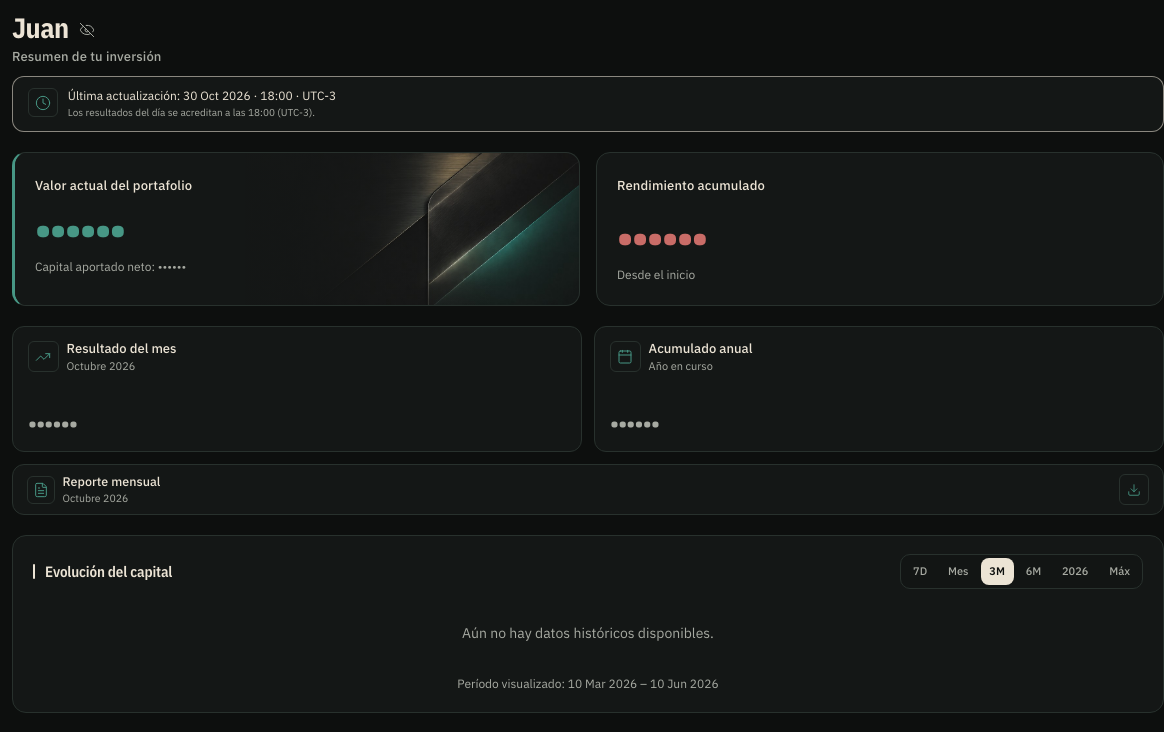
it: DashboardPage › downloads monthly report when download button is clicked
Click the button named "Descargar reporte".
click(1134, 490)  # box [1119, 474, 1149, 505]
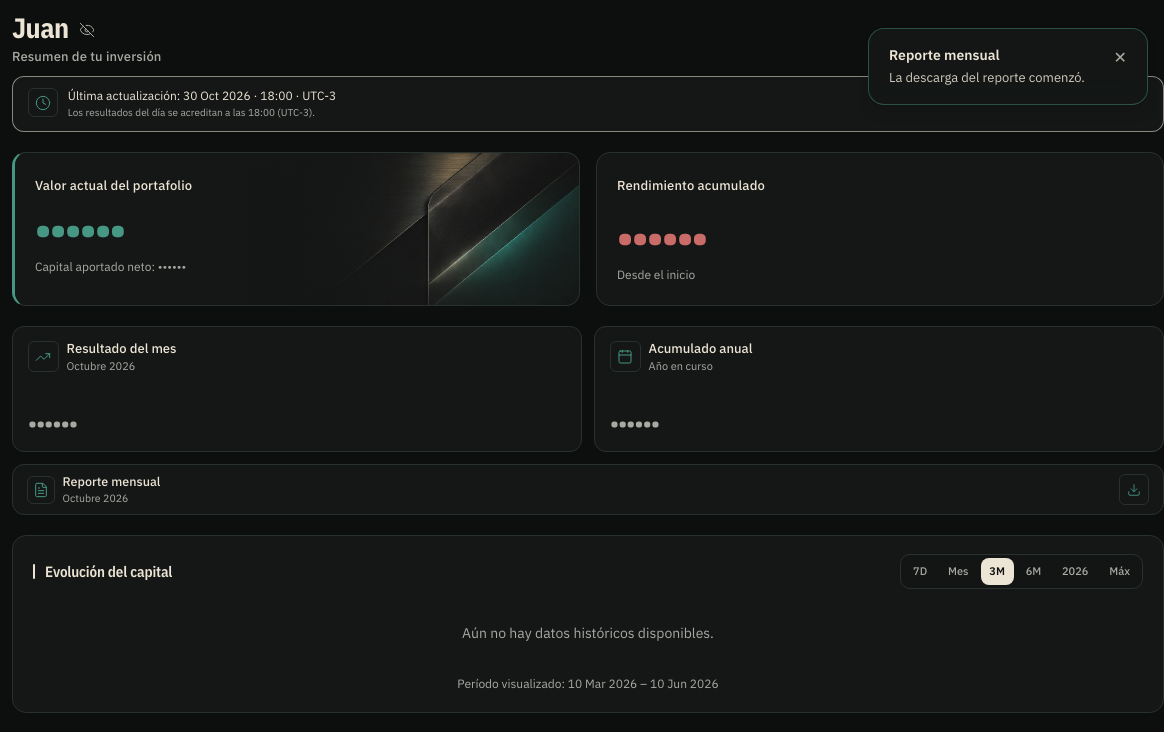
Now the text "La descarga del reporte comenzó." is shown, box [889, 69, 1102, 88]
